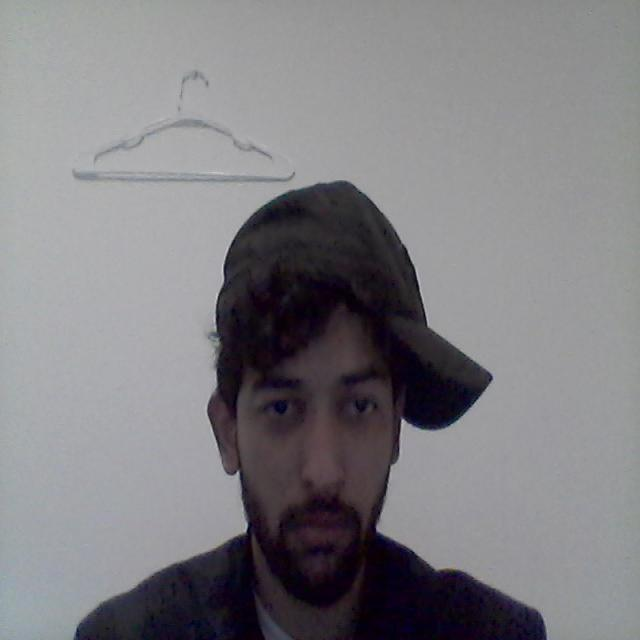cap: (157, 164, 517, 432)
